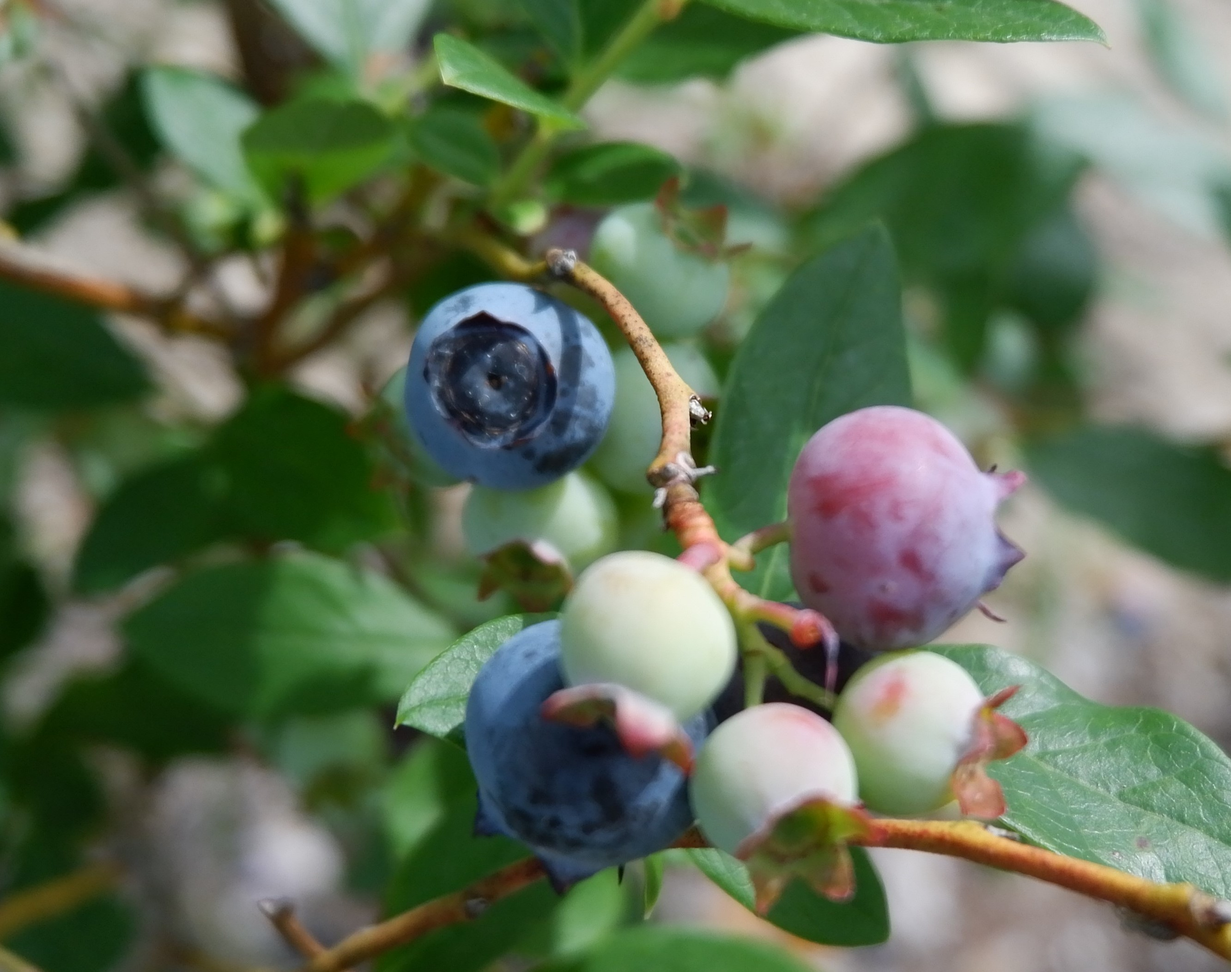Immature: (793, 414, 1011, 650), (691, 702, 890, 919), (546, 556, 733, 757), (829, 650, 1029, 816), (462, 476, 622, 612)
Mature: (467, 612, 695, 879), (409, 286, 611, 489)
